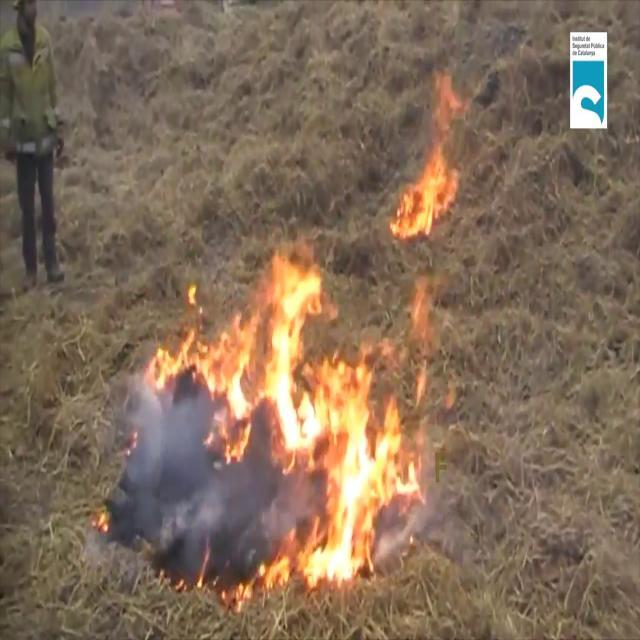Fire: (140, 243, 430, 584), (390, 78, 469, 244)
